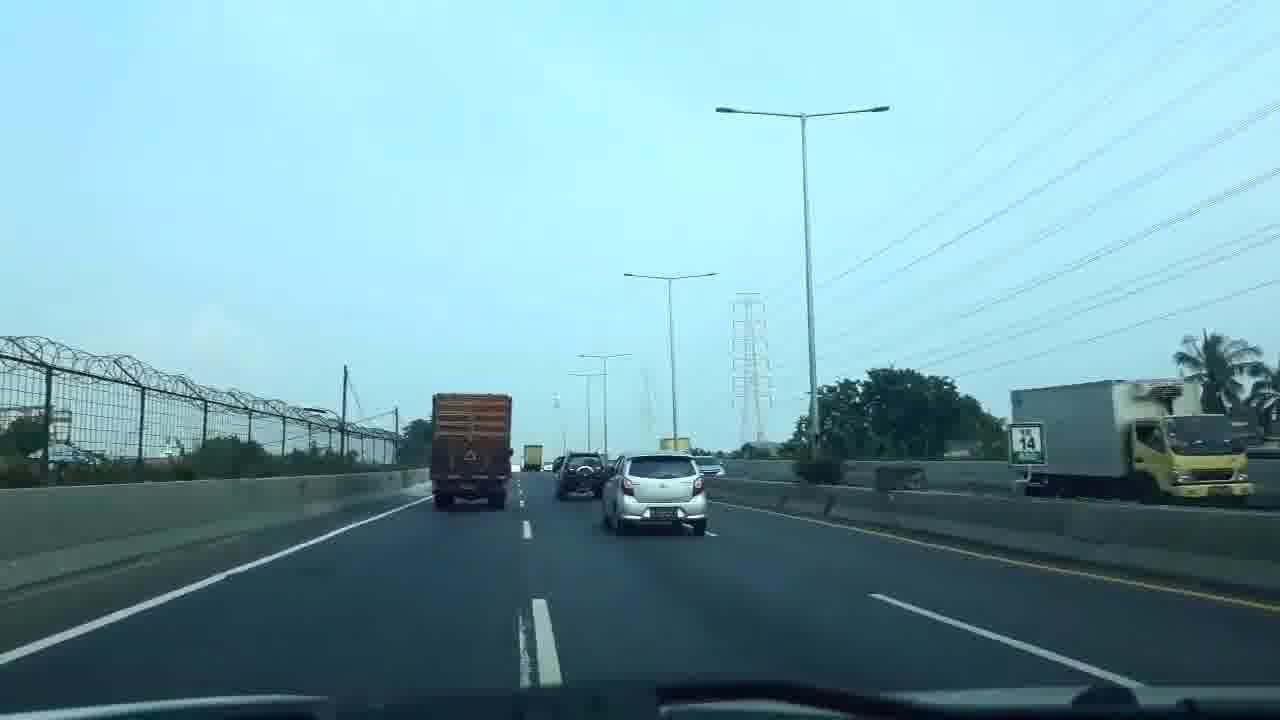plate_positive: (649, 508, 679, 520)
